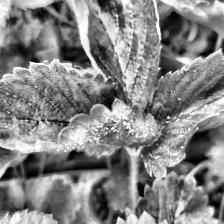Powdery Mildew Leaf: (0, 59, 163, 154), (136, 38, 224, 181), (58, 0, 162, 111)
